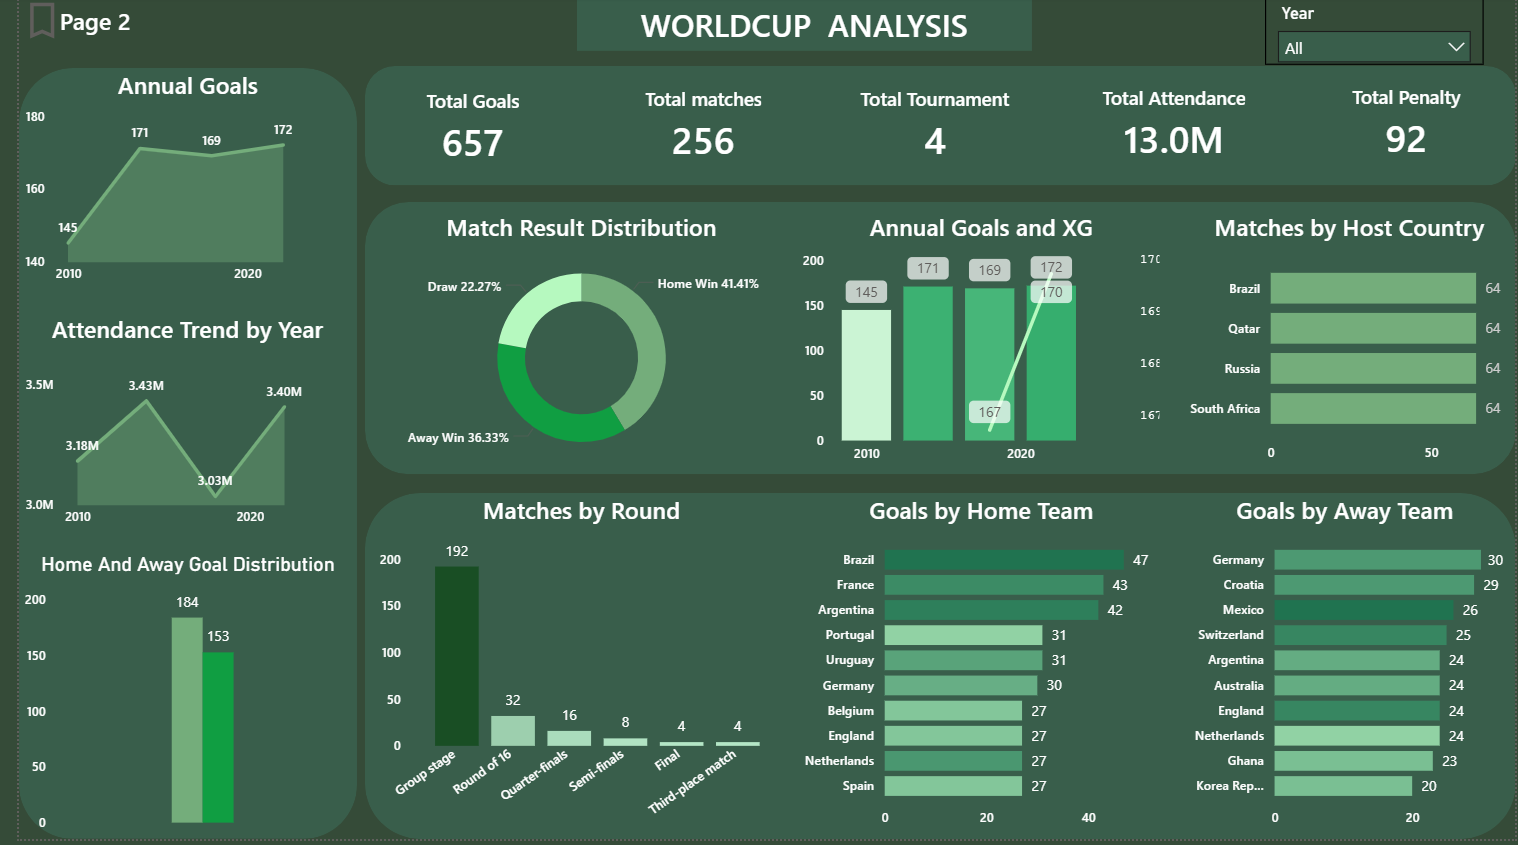

What the dashboard file says about the page in this screenshot:
{"tool":"powerbi","page":{"name":"World cup","canvas":[1280,720],"ordinal":0},"visuals":[{"type":"group","id":"g1","title":"Background","box":[0,58.9,1280,661.1],"z":0},{"type":"lineChart","title":"Annual Goals ","fields":{"Category":["World Cup.Year"],"Y":["World Cup.Toal Goalss"]},"box":[0,60.7,289,194.1],"z":0,"group":"g2"},{"type":"shape","box":[295.7,174.9,984.3,232.8],"z":0,"group":"g1"},{"type":"shape","box":[0,60.7,289,659.3],"z":1000,"group":"g1"},{"type":"cardVisual","fields":{"Data":["World Cup.Toal Goalss"]},"box":[303.9,61.8,169.6,97.2],"z":1000},{"type":"clusteredColumnChart","title":"Home And Away Goal Distribution","fields":{"Y":["Sum(World Cup.Home Xg)","Sum(World Cup.Away Xg)"]},"box":[0,474.6,289,245.4],"z":1000,"group":"g2"},{"type":"cardVisual","fields":{"Data":["World Cup.Total matches"]},"box":[492,59.2,187.3,99.8],"z":2000},{"type":"donutChart","title":"Match Result Distribution","fields":{"Category":["World Cup.Match Result"],"Y":["World Cup.Total matches"]},"box":[303.6,182.1,354.9,225.7],"z":2000,"group":"g2"},{"type":"shape","box":[295.9,424,984.1,295.9],"z":2000,"group":"g1"},{"type":"shape","box":[295.7,58.9,984.3,102.2],"z":3000,"group":"g1"},{"type":"cardVisual","fields":{"Data":["World Cup.Total Tournament"]},"box":[689,62.2,188.2,94.6],"z":3000},{"type":"barChart","title":"Goals by Away Team","fields":{"Category":["World Cup.Away Team"],"Y":["World Cup.Total Goalss"]},"box":[987.6,424,292.4,295.9],"z":3000,"group":"g2"},{"type":"cardVisual","fields":{"Data":["World Cup.Total Attendance"]},"box":[893.6,60.7,188.1,96.6],"z":4000},{"type":"barChart","title":"Goals by Home Team","fields":{"Category":["World Cup.Home Team"],"Y":["World Cup.Total Goalss"]},"box":[665.2,424,315.4,295.9],"z":4000,"group":"g2"},{"type":"cardVisual","fields":{"Data":["World Cup.Total Penalty"]},"box":[1092.8,54.7,187.3,106],"z":5000},{"type":"lineChart","title":"Attendance Trend by Year","fields":{"Category":["World Cup.Year"],"Y":["World Cup.Total Attendance"]},"box":[0,269.3,288.2,193.3],"z":5000,"group":"g2"},{"type":"textbox","title":"Text box 1","box":[477,0,388.7,45.9],"z":6000},{"type":"lineStackedColumnComboChart","title":"Annual Goals and XG ","fields":{"Y":["World Cup.Total Goalss"],"Category":["World Cup.Year"],"Y2":["World Cup.Total XG"]},"box":[665.2,182,315.4,226.1],"z":6000,"group":"g2"},{"type":"group","id":"g2","title":"Page 1","box":[0,60.7,1280.1,659.3],"z":7000},{"type":"barChart","title":"Matches by Host Country","fields":{"Y":["World Cup.Total matches"],"Category":["World Cup.Host Country"]},"box":[995.3,182.1,284.8,225.7],"z":7000,"group":"g2"},{"type":"columnChart","title":"Matches by Round","fields":{"Y":["World Cup.Total matches"],"Category":["World Cup.Round"]},"box":[303.9,424,355.1,286.2],"z":8000,"group":"g2"},{"type":"actionButton","title":"Button 2","box":[0,0,99.7,39.9],"z":10000},{"type":"slicer","fields":{"Values":["World Cup.Date.Variation.Date Hierarchy.Year"]},"box":[1065.5,0,187.3,58.1],"z":12000}]}

Visuals, with their boxes in screenshot pixels (x1, y1, x2, y2), scaled from the page's 1280x720 canvas onto the 1518x845 screenshot:
"Background" group: {"left": 0, "top": 69, "right": 1517, "bottom": 844}
"Annual Goals " lineChart: {"left": 0, "top": 71, "right": 343, "bottom": 299}
shape: {"left": 351, "top": 205, "right": 1517, "bottom": 478}
shape: {"left": 0, "top": 71, "right": 343, "bottom": 844}
cardVisual - World Cup.Toal Goalss: {"left": 360, "top": 73, "right": 562, "bottom": 187}
"Home And Away Goal Distribution" clusteredColumnChart: {"left": 0, "top": 557, "right": 343, "bottom": 844}
cardVisual - World Cup.Total matches: {"left": 583, "top": 69, "right": 806, "bottom": 187}
"Match Result Distribution" donutChart: {"left": 360, "top": 214, "right": 781, "bottom": 479}
shape: {"left": 351, "top": 498, "right": 1517, "bottom": 844}
shape: {"left": 351, "top": 69, "right": 1517, "bottom": 189}
cardVisual - World Cup.Total Tournament: {"left": 817, "top": 73, "right": 1040, "bottom": 184}
"Goals by Away Team" barChart: {"left": 1171, "top": 498, "right": 1517, "bottom": 844}
cardVisual - World Cup.Total Attendance: {"left": 1060, "top": 71, "right": 1283, "bottom": 185}
"Goals by Home Team" barChart: {"left": 789, "top": 498, "right": 1163, "bottom": 844}
cardVisual - World Cup.Total Penalty: {"left": 1296, "top": 64, "right": 1517, "bottom": 189}
"Attendance Trend by Year" lineChart: {"left": 0, "top": 316, "right": 342, "bottom": 543}
"Text box 1" textbox: {"left": 566, "top": 0, "right": 1027, "bottom": 54}
"Annual Goals and XG " lineStackedColumnComboChart: {"left": 789, "top": 214, "right": 1163, "bottom": 479}
"Page 1" group: {"left": 0, "top": 71, "right": 1517, "bottom": 844}
"Matches by Host Country" barChart: {"left": 1180, "top": 214, "right": 1517, "bottom": 479}
"Matches by Round" columnChart: {"left": 360, "top": 498, "right": 782, "bottom": 833}
"Button 2" actionButton: {"left": 0, "top": 0, "right": 118, "bottom": 47}
slicer - World Cup.Date.Variation.Date Hierarchy.Year: {"left": 1264, "top": 0, "right": 1486, "bottom": 68}
